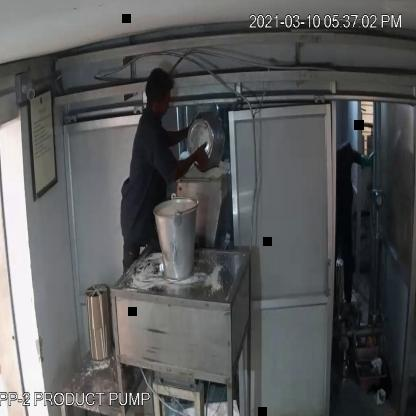no_glove: (168, 140, 216, 191), (158, 108, 198, 154)
